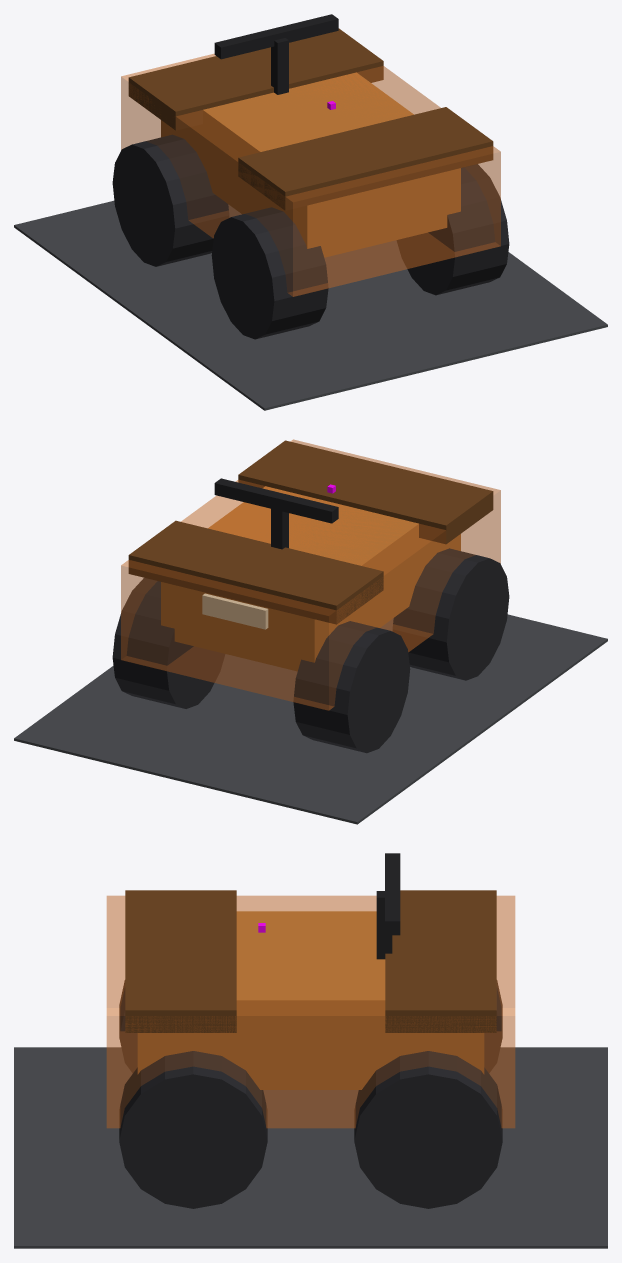
File: Quad.obj
3 renders of one model, top to bottom at view 1: azimuth 30°, elevation 25°; view 2: azimuth 150°, elevation 25°; view 3: azimuth 270°, elevation 25°, orthographic. The views are drawn at different scales.
Parts seen in each view (by area): view 1: Ref_Ground, Ref_Chassis, Ref_Fender, Ref_Body, Wheel_RL, Wheel_FL, Wheel_RR, Ref_Handlebar, Ref_Steering; view 2: Ref_Ground, Ref_Chassis, Ref_Fender, Ref_Body, Wheel_FL, Wheel_RL, Wheel_FR, Ref_Handlebar, Ref_Headlight, Ref_Steering; view 3: Ref_Ground, Ref_Chassis, Ref_Fender, Ref_Body, Wheel_FR, Wheel_RR, Ref_Handlebar, Wheel_FL, Wheel_RL, Ref_Steering.
Boxes of the visible parts, left/top/right/bottom form: Ref_Ground: left=14, top=200, right=607, bottom=410; Ref_Chassis: left=121, top=54, right=500, bottom=296; Ref_Fender: left=128, top=28, right=493, bottom=210; Ref_Body: left=161, top=72, right=460, bottom=257; Wheel_RL: left=211, top=207, right=328, bottom=339; Wheel_FL: left=112, top=134, right=229, bottom=266; Wheel_RR: left=396, top=164, right=509, bottom=295; Ref_Handlebar: left=214, top=14, right=338, bottom=59; Ref_Steering: left=271, top=38, right=288, bottom=94; Ref_Ground: left=14, top=614, right=607, bottom=824; Ref_Chassis: left=121, top=439, right=500, bottom=710; Ref_Fender: left=128, top=440, right=493, bottom=624; Ref_Body: left=161, top=486, right=460, bottom=671; Wheel_FL: left=293, top=621, right=410, bottom=753; Wheel_RL: left=392, top=548, right=509, bottom=680; Wheel_FR: left=112, top=578, right=225, bottom=708; Ref_Handlebar: left=214, top=478, right=338, bottom=523; Ref_Headlight: left=202, top=593, right=268, bottom=629; Ref_Steering: left=271, top=509, right=288, bottom=549; Ref_Ground: left=14, top=1047, right=607, bottom=1248; Ref_Chassis: left=106, top=895, right=515, bottom=1128; Ref_Fender: left=125, top=890, right=496, bottom=1032; Ref_Body: left=137, top=911, right=484, bottom=1089; Wheel_FR: left=354, top=1051, right=502, bottom=1208; Wheel_RR: left=119, top=1051, right=267, bottom=1208; Ref_Handlebar: left=385, top=853, right=400, bottom=935; Wheel_FL: left=484, top=980, right=502, bottom=1073; Wheel_RL: left=119, top=980, right=137, bottom=1073; Ref_Steering: left=376, top=891, right=392, bottom=959.
Size of the model in its own units: 7.6 by 4.68 by 9.6.
